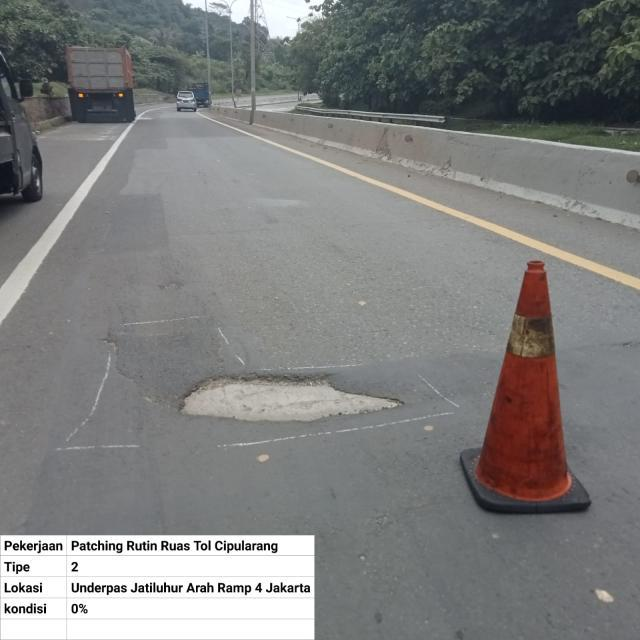Buraco: (174, 370, 408, 427)
